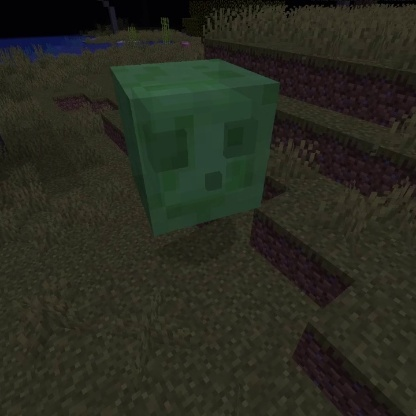slime: (106, 54, 287, 242)
